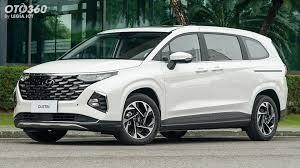hyundai: (40, 77, 58, 90)
